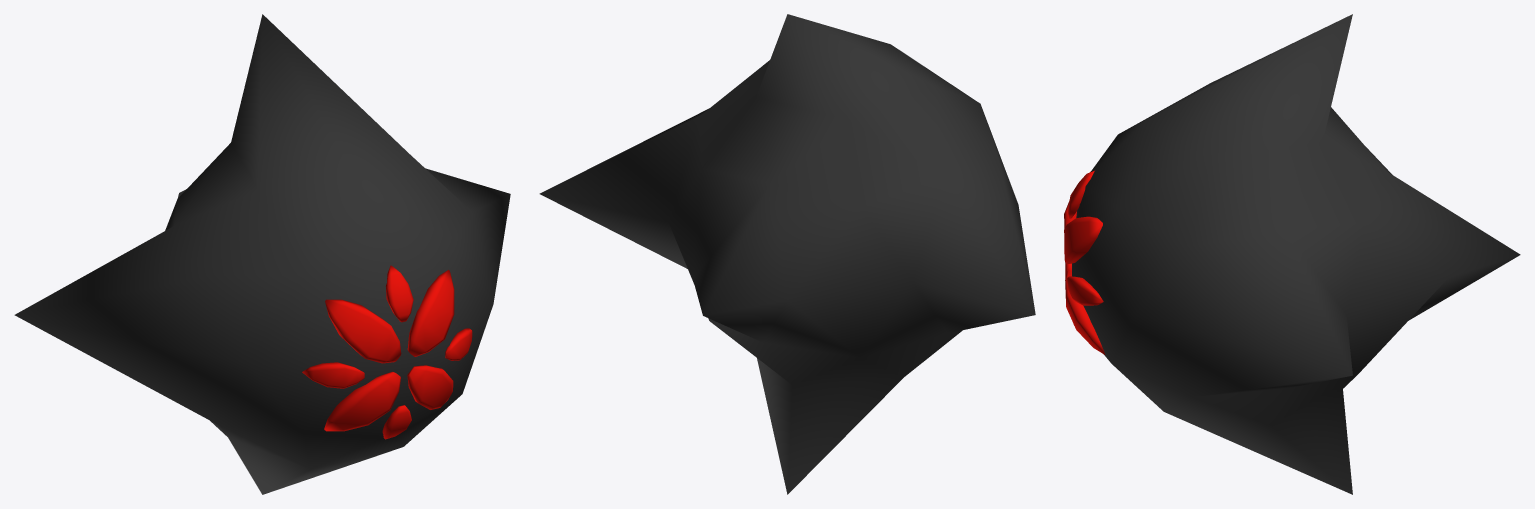
The model's file is LaserMonster.fbx.
3 views of the same model, side by side, from view 1: azimuth 30°, elevation 25°; view 2: azimuth 150°, elevation 25°; view 3: azimuth 270°, elevation 25° (orthographic).
Parts seen in each view (by area): view 1: Icosphere, Cube, Cube.002, Cube.001; view 2: Icosphere; view 3: Icosphere, Cube, Cube.002.
Boxes of the visible parts, <box> form: Icosphere: <box>14,14,510,494</box>; Cube: <box>324,270,454,431</box>; Cube.002: <box>302,328,472,388</box>; Cube.001: <box>382,265,413,439</box>; Icosphere: <box>539,14,1035,494</box>; Icosphere: <box>1072,14,1520,494</box>; Cube: <box>1064,171,1105,354</box>; Cube.002: <box>1066,276,1103,305</box>.
Size of the model in its own units: 329 by 304 by 262.
